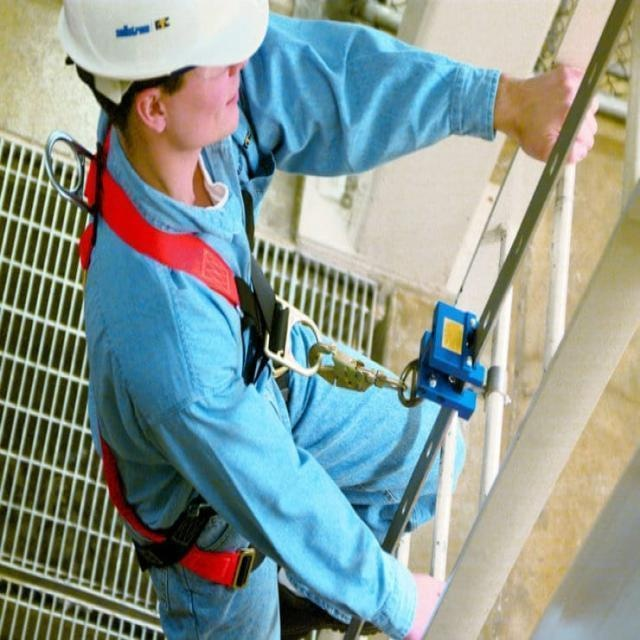Arnes_seguridad: (63, 107, 330, 603)
